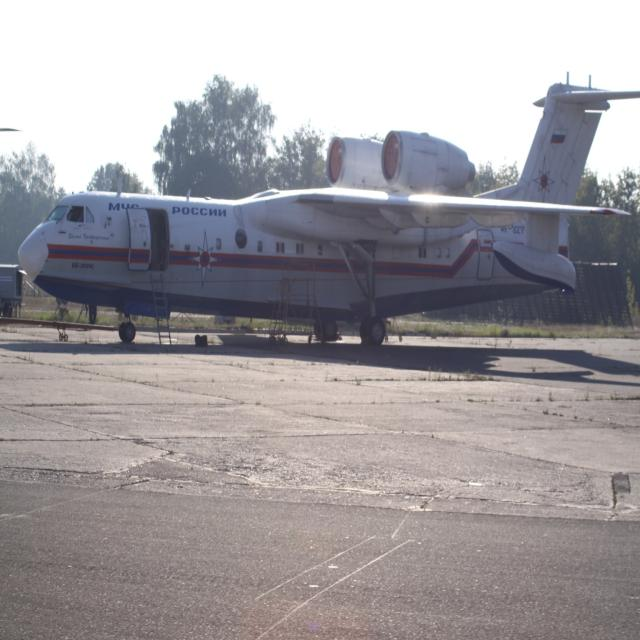MIL_Plane: (0, 70, 384, 344)
